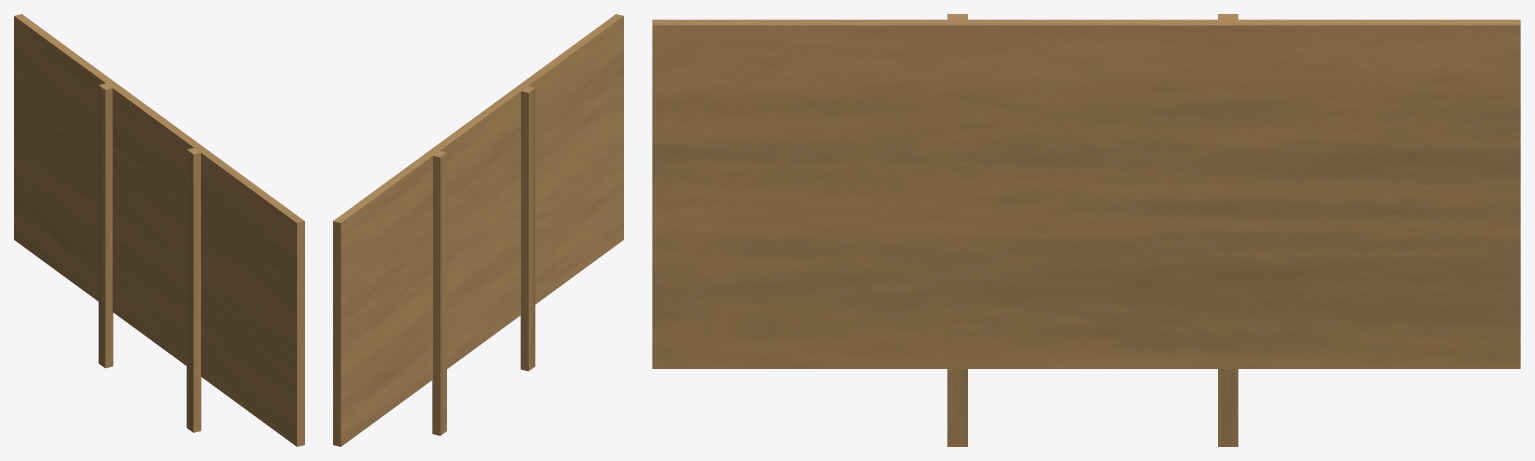
File: sign.glb
The picture shows the model from 3 angles, left to right: view 1: azimuth 30°, elevation 25°; view 2: azimuth 150°, elevation 25°; view 3: azimuth 270°, elevation 25°; orthographic projection. The views are drawn at different scales.
Parts seen in each view (by area): view 1: Cube; view 2: Cube; view 3: Cube.
Boxes of the visible parts, x1,y1,x2,y2 form: Cube: (14, 14, 304, 446); Cube: (333, 14, 623, 446); Cube: (652, 14, 1520, 446).
Bounding box in the file's own units: 1.93 × 33.56 × 61.84.
1 material, 1 textured.
